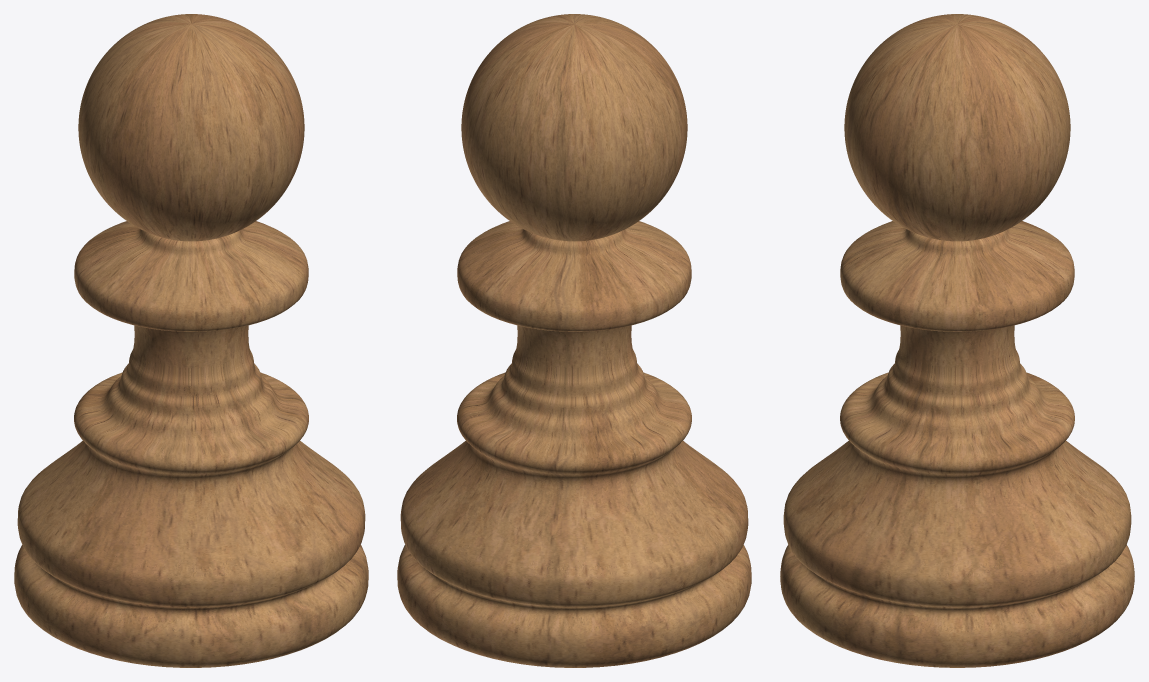
Rendered from 白ポーン.fbx.
The picture shows the model from 3 angles, left to right: view 1: azimuth 30°, elevation 25°; view 2: azimuth 150°, elevation 25°; view 3: azimuth 270°, elevation 25°; orthographic projection.
Parts seen in each view (by area): view 1: 白ポーン4; view 2: 白ポーン4; view 3: 白ポーン4.
Boxes of the visible parts, x1,y1,x2,y2 form: 白ポーン4: (14, 14, 368, 667); 白ポーン4: (397, 14, 751, 667); 白ポーン4: (780, 14, 1134, 667).
Size of the model in its own units: 1.85 by 3.35 by 1.85.
